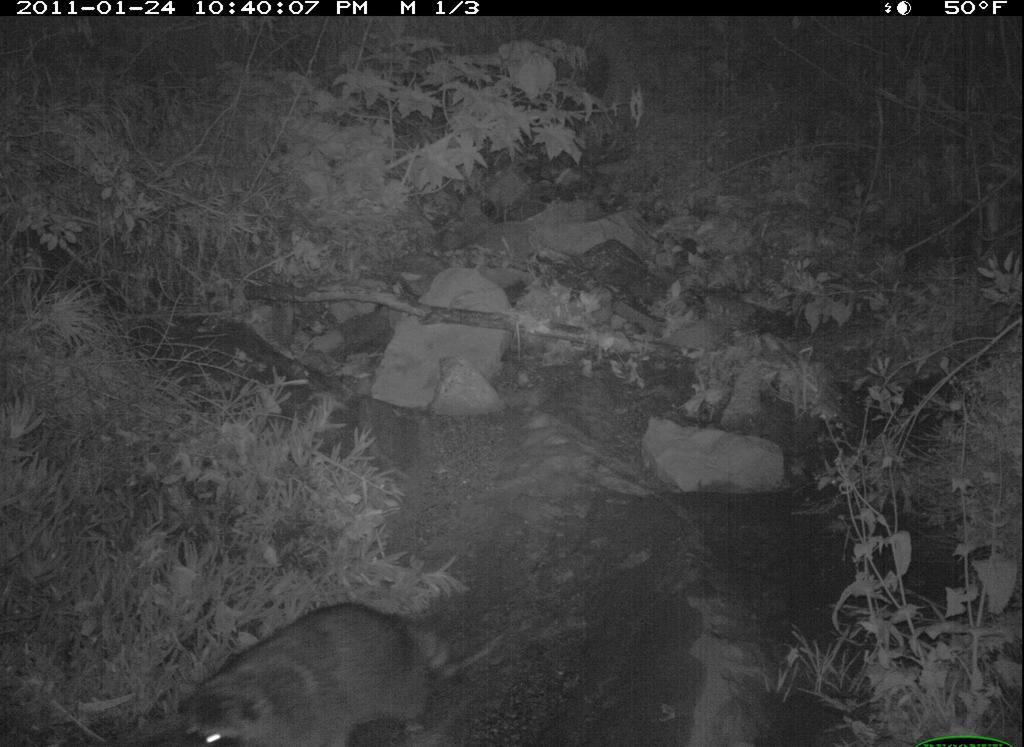raccoon: (187, 577, 451, 745)
